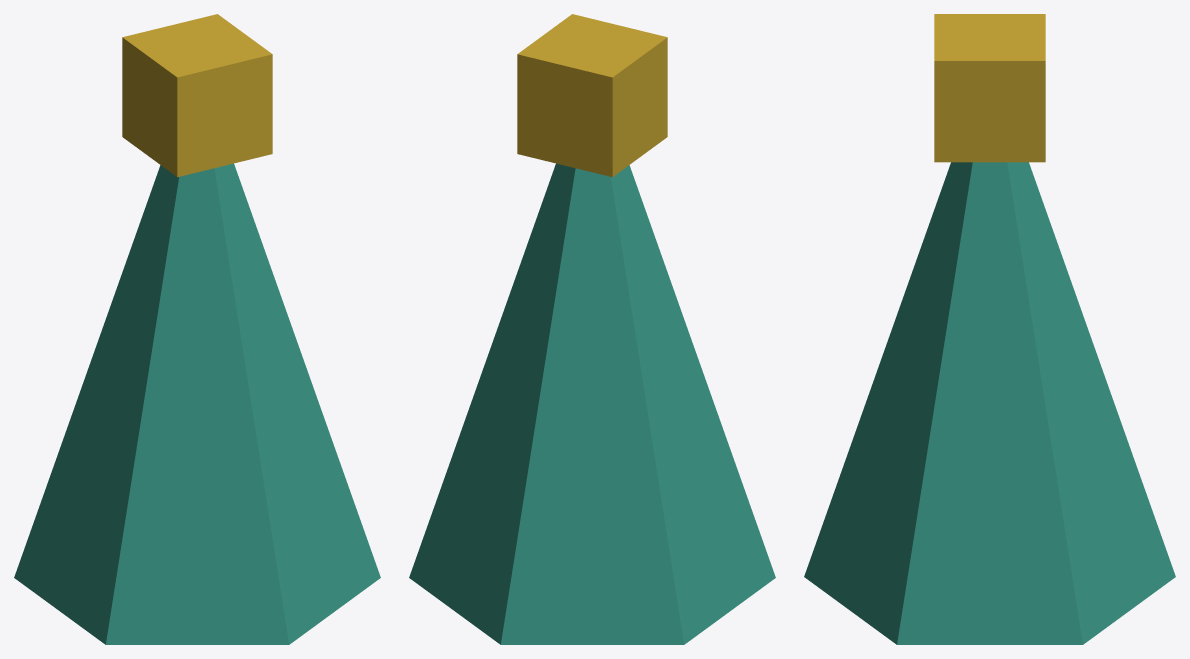
Rendered from mod_party_hat.glb.
The picture shows the model from 3 angles, left to right: view 1: azimuth 30°, elevation 25°; view 2: azimuth 150°, elevation 25°; view 3: azimuth 270°, elevation 25°; orthographic projection.
Visible parts, largest first — view 1: mod_party_hat; view 2: mod_party_hat; view 3: mod_party_hat.
Boxes of the visible parts, x1=… form: mod_party_hat: x1=14, y1=14, x2=380, y2=644; mod_party_hat: x1=409, y1=14, x2=775, y2=644; mod_party_hat: x1=804, y1=14, x2=1175, y2=644.
Bounding box in the file's own units: 0.0866 × 0.16 × 0.1.
